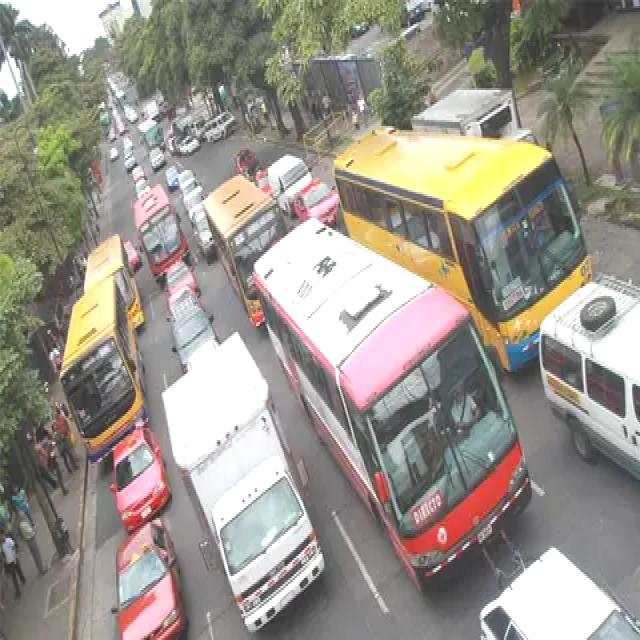BUS: (329, 133, 591, 380), (341, 318, 516, 594), (63, 329, 146, 460), (138, 207, 186, 280)
